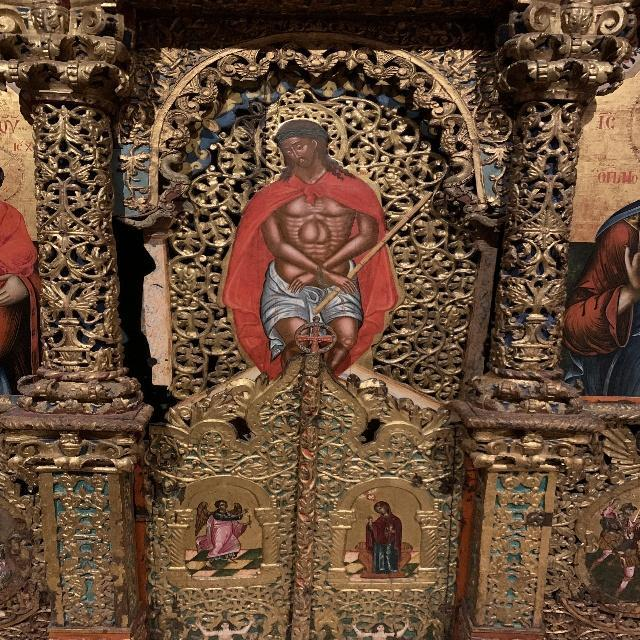aura: (255, 105, 349, 170)
christ: (239, 103, 388, 368)
scepter: (304, 192, 431, 315)
